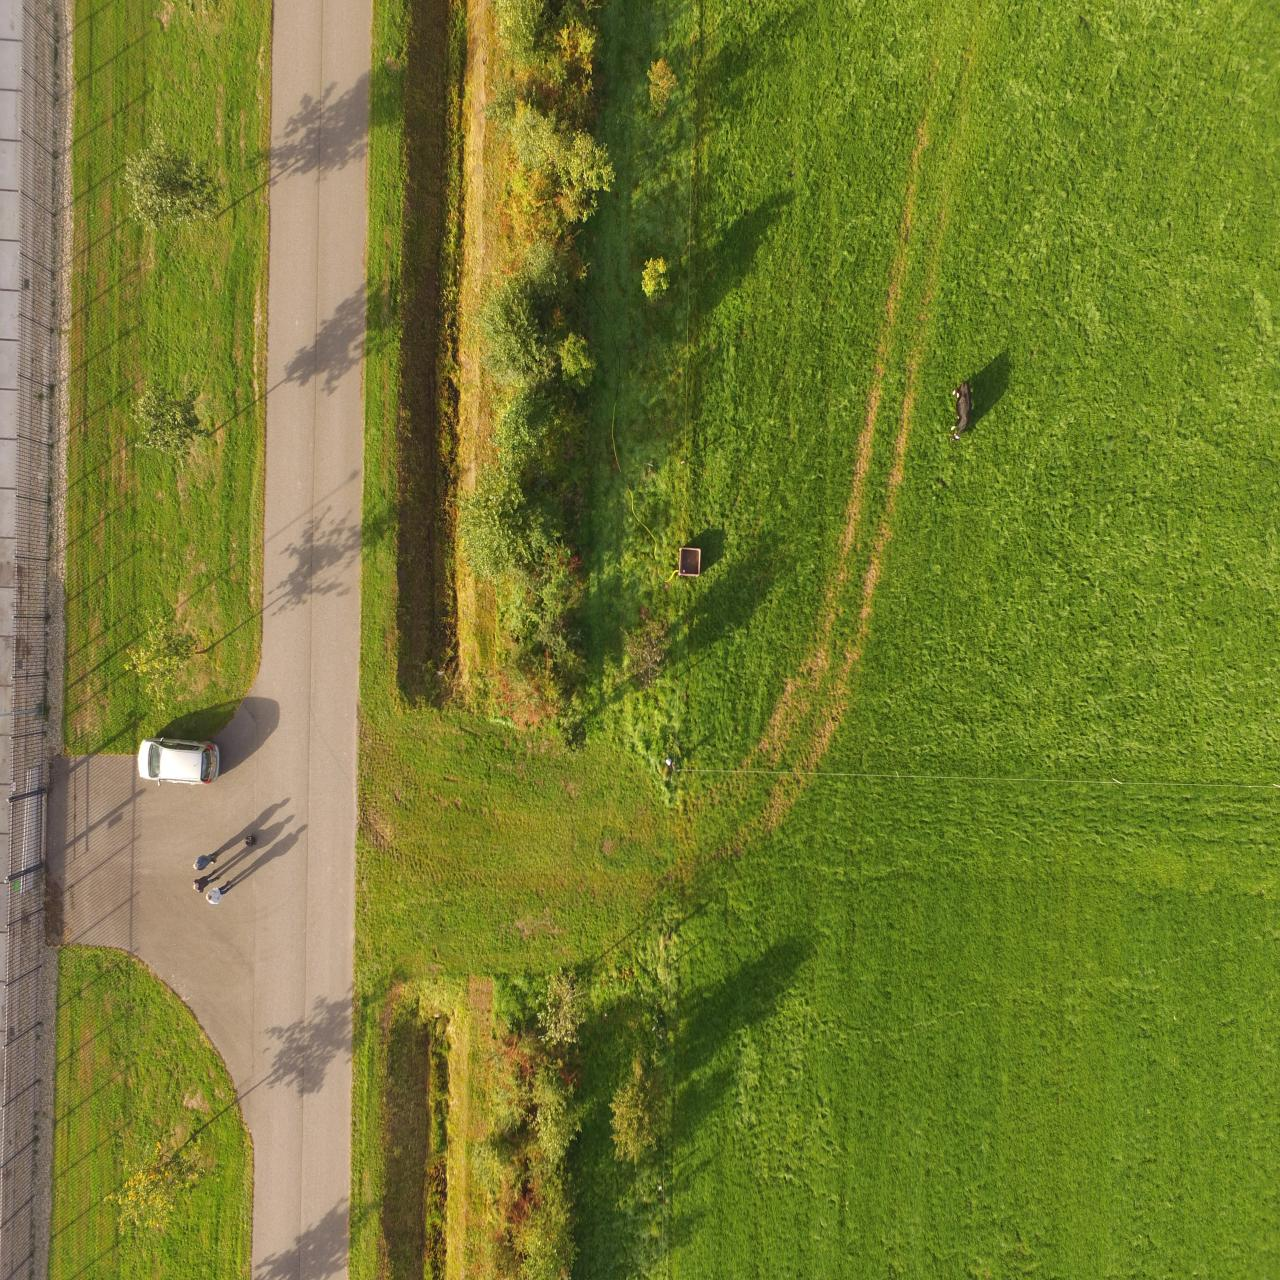cow: (948, 377, 974, 442)
